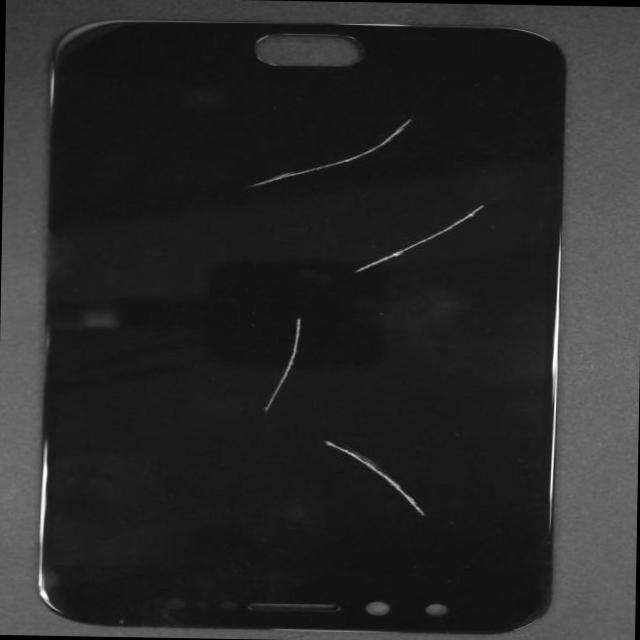scratch: (236, 112, 420, 196), (334, 193, 497, 281), (315, 437, 430, 513), (243, 309, 313, 420)
